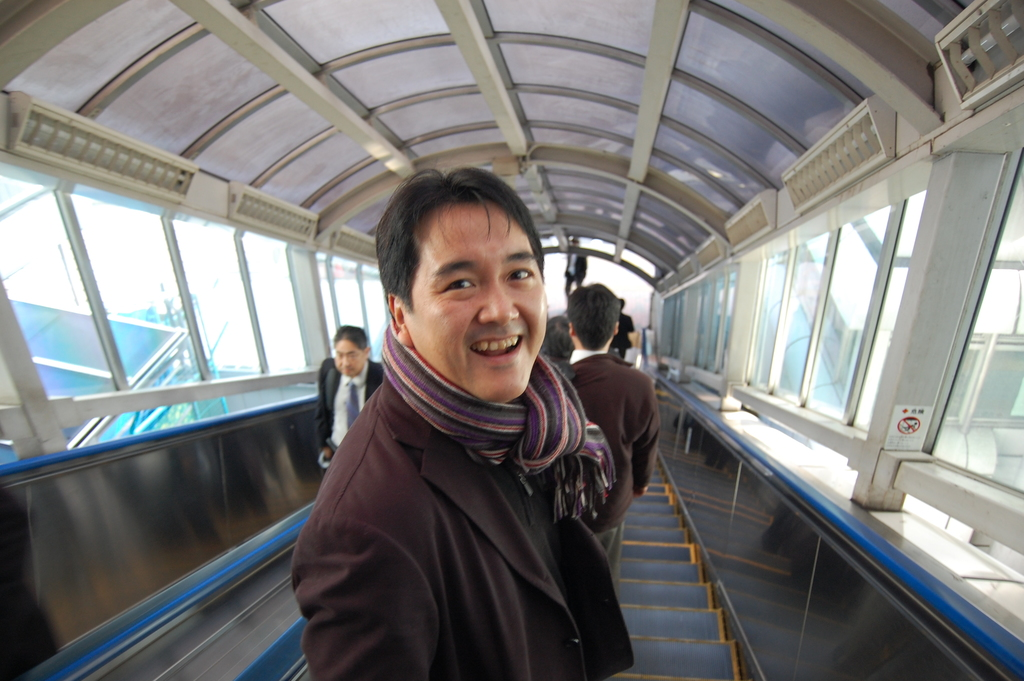person: (322, 324, 384, 460)
